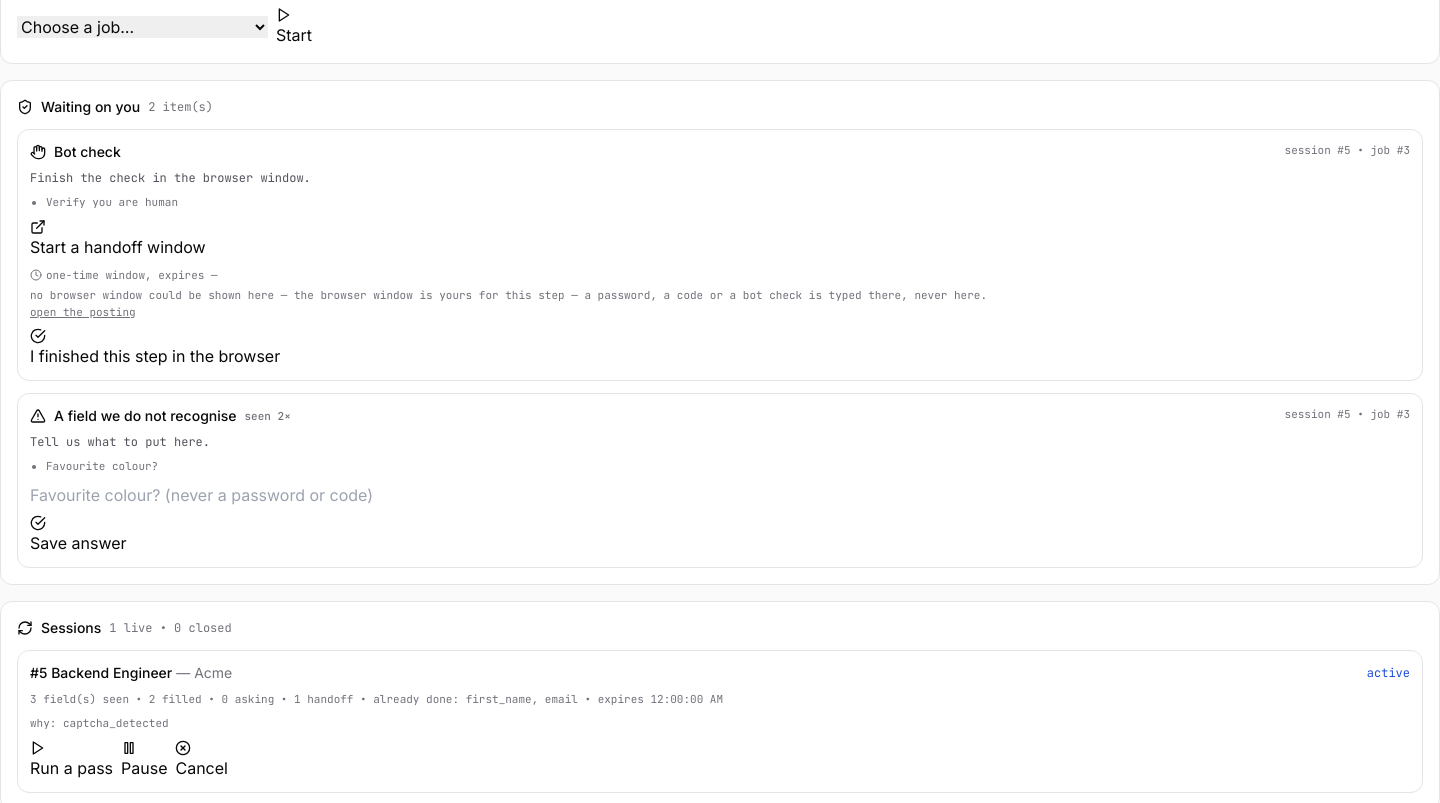
Test: Assisted Apply page › reports what a pass actually did, straight from the run
(page scrolled)
Click the button "Run a pass": (72, 760) [30,740,113,780]
(page scrolled)
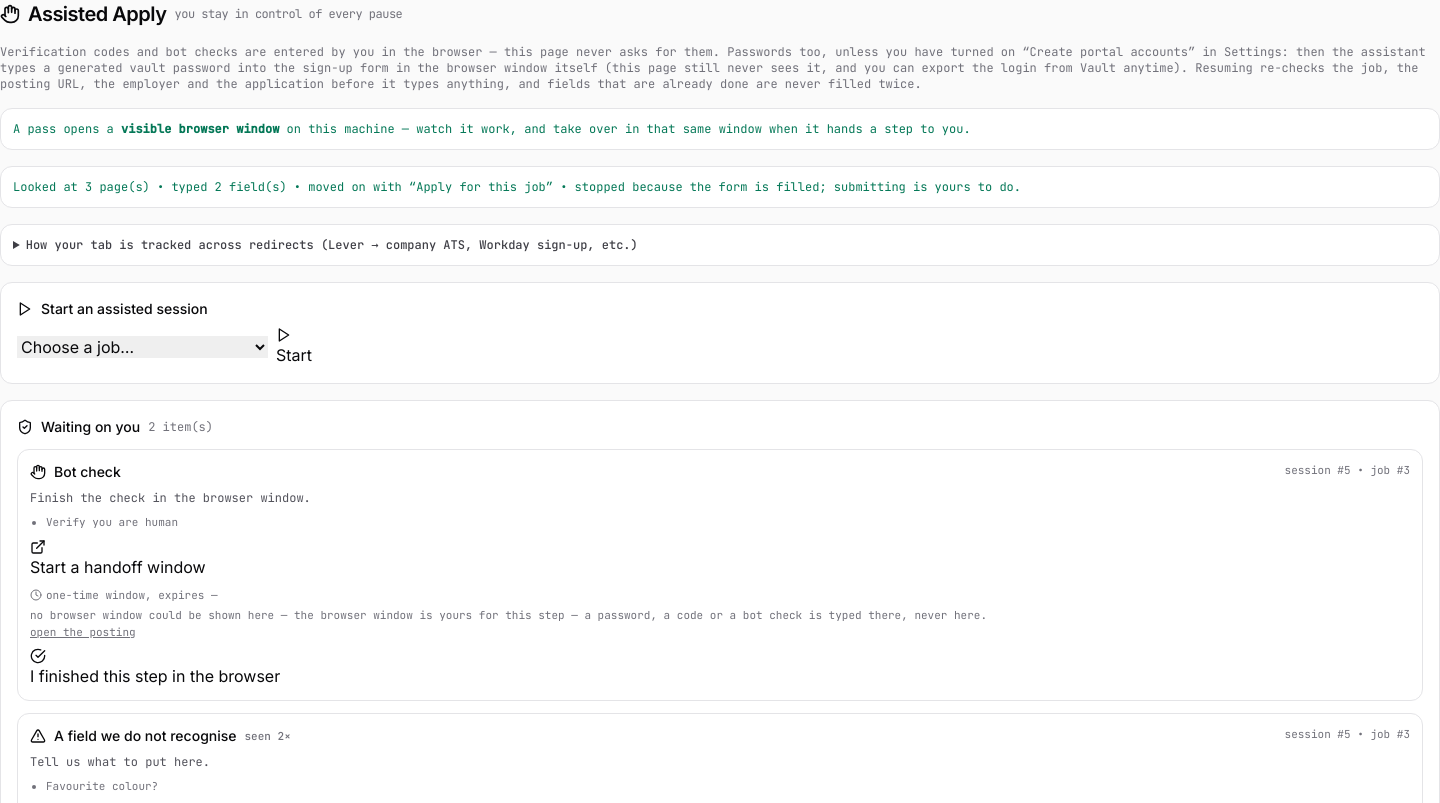
Expected: the text "submitting is yours to do" is shown, [13,179,1021,195]
